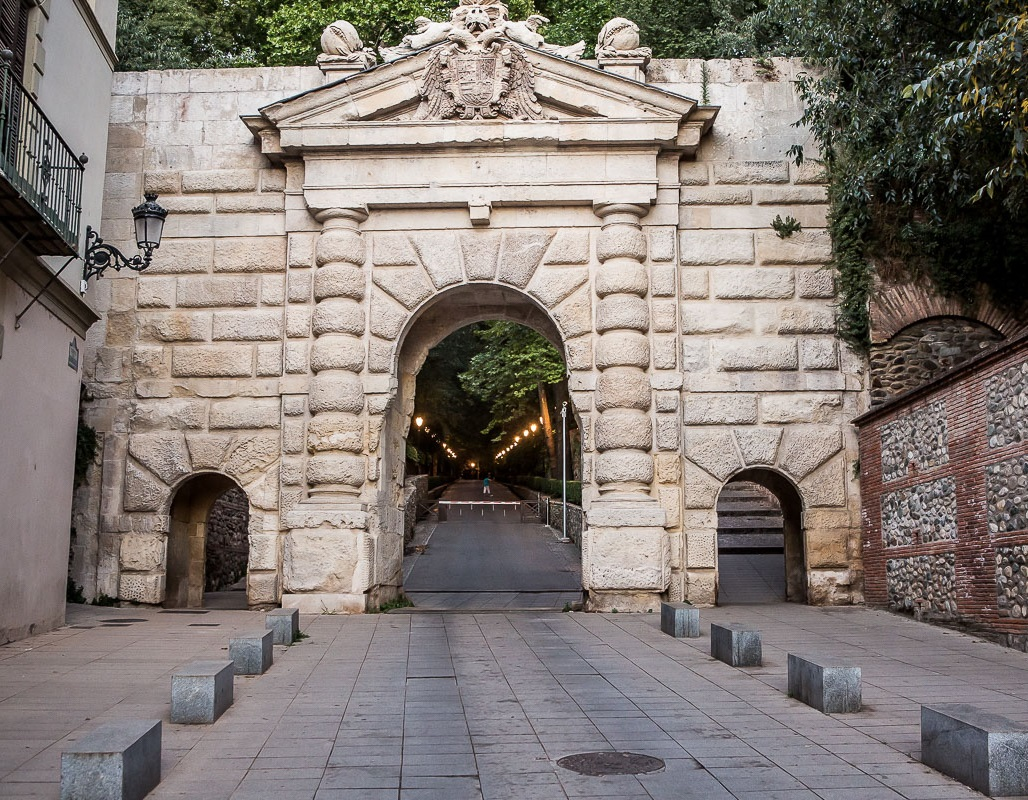arco-medio-punto: (381, 273, 579, 399), (712, 460, 810, 518), (164, 466, 255, 523)
fronton: (253, 38, 703, 144)
